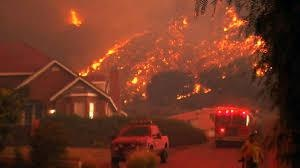fire: (68, 8, 83, 27)
